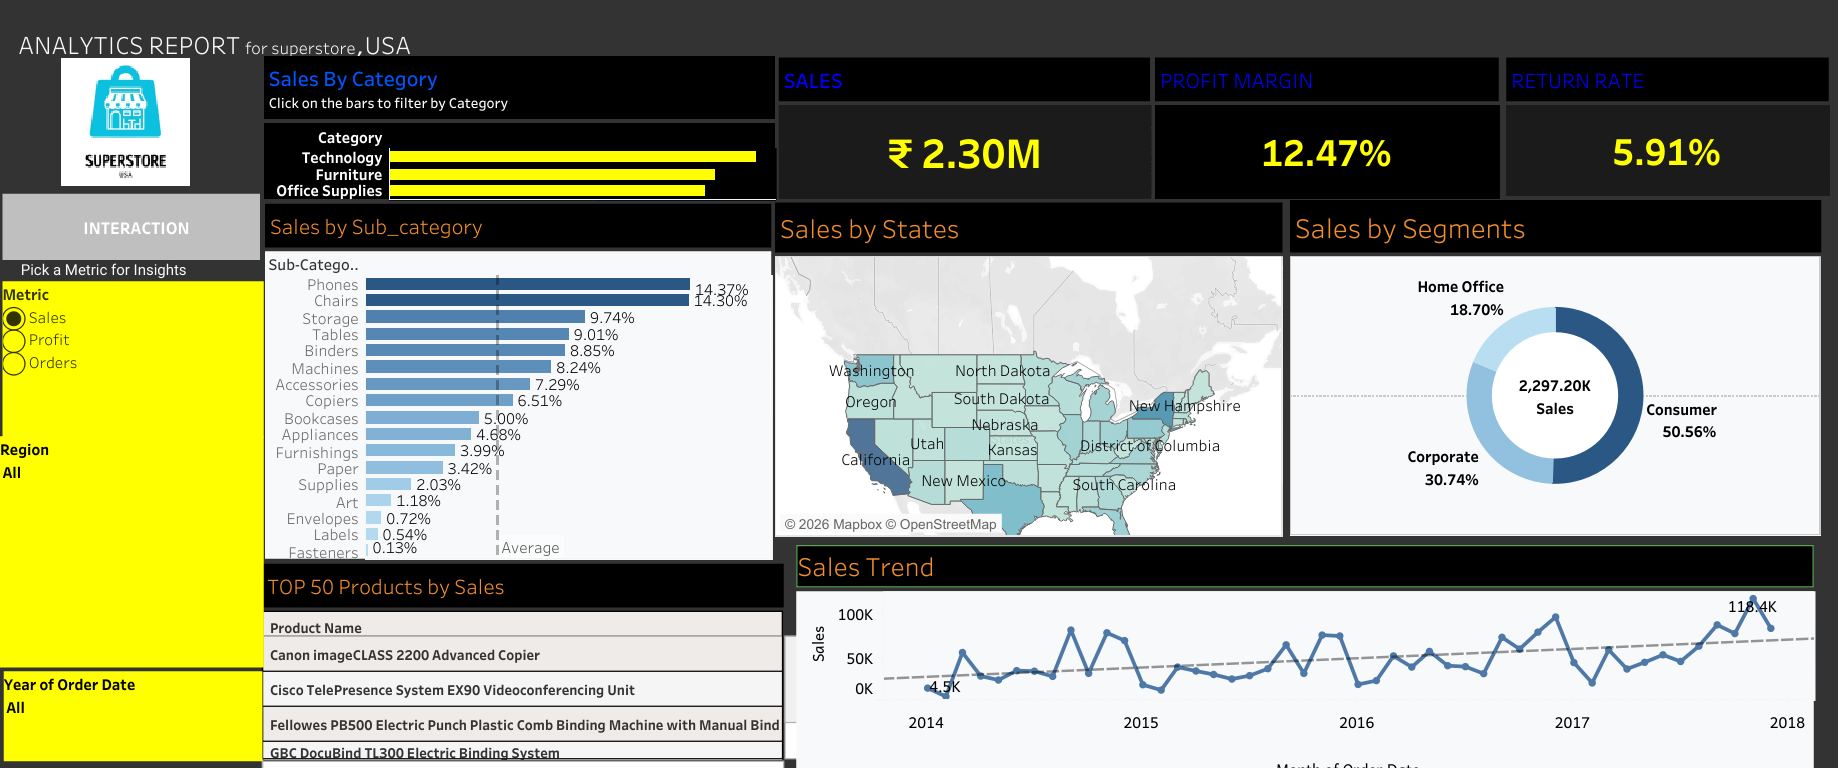

This screenshot's page, from the dashboard's own definition file:
{"tool":"tableau","page":{"name":"Dashboard ","canvas":[1000,1000],"units":"permille","ordinal":0},"visuals":[{"type":"title","box":[4.8,9.4,990.3,57.6]},{"type":"worksheet","title":"Metrics","mark":"Automatic","rows":["Category"],"box":[143.3,73.2,278,184.9]},{"type":"worksheet","title":"Total Sales","mark":"Automatic","box":[423.7,74,201.6,183.3]},{"type":"worksheet","title":"Profit Margin","mark":"Automatic","box":[628.2,74,187.1,182.1]},{"type":"worksheet","title":"Return Rate","mark":"Automatic","box":[819,74,175.6,179.8]},{"type":"dashboard-object","box":[1.2,252.6,140,85.8]},{"type":"worksheet","title":"Pie Chart","mark":"Pie","rows":["Calculation_1098164728987676","Calculation_1098164729004062"],"box":[701.9,259.7,288.5,438.3]},{"type":"worksheet","title":"Geographical","mark":"Multipolygon","box":[421.3,263,276.1,435.5]},{"type":"worksheet","title":"Sales by Sub-Category","mark":"Automatic","rows":["Sub-Category"],"cols":["Sales"],"box":[144.2,264.4,275.2,463]},{"type":"text","box":[9.8,332.5,125.5,37.2]},{"type":"parameter","param":"[Parameters].[Parameter 1098164708245528]","box":[1.2,365.4,142.4,203.3]},{"type":"filter","title":"Metrics","param":"[federated.16yisat04dkf6i1eikgsr0pbt6g1].[none:Region:nk]","box":[0,567.6,143.6,300.8]},{"type":"filter","title":"Metrics","param":"[federated.16yisat04dkf6i1eikgsr0pbt6g1].[yr:Order Date:ok]","box":[1.8,873.1,140.6,117.5]}]}

Visuals, with their boxes on the dashboard's canvas, which has no fixed pixel size, in thousandths of its width and height (x1, y1, x2, y2). These are canvas units, not pixel positions in the 1838x768 screenshot, which may show the page scaled, cropped or inside an application window:
title: detection(5, 9, 995, 67)
"Metrics" worksheet: detection(143, 73, 421, 258)
"Total Sales" worksheet: detection(424, 74, 625, 257)
"Profit Margin" worksheet: detection(628, 74, 815, 256)
"Return Rate" worksheet: detection(819, 74, 995, 254)
dashboard-object: detection(1, 253, 141, 338)
"Pie Chart" worksheet (Pie marks): detection(702, 260, 990, 698)
"Geographical" worksheet (Multipolygon marks): detection(421, 263, 697, 698)
"Sales by Sub-Category" worksheet: detection(144, 264, 419, 727)
text: detection(10, 332, 135, 370)
parameter: detection(1, 365, 144, 569)
"Metrics" filter: detection(0, 568, 144, 868)
"Metrics" filter: detection(2, 873, 142, 991)
